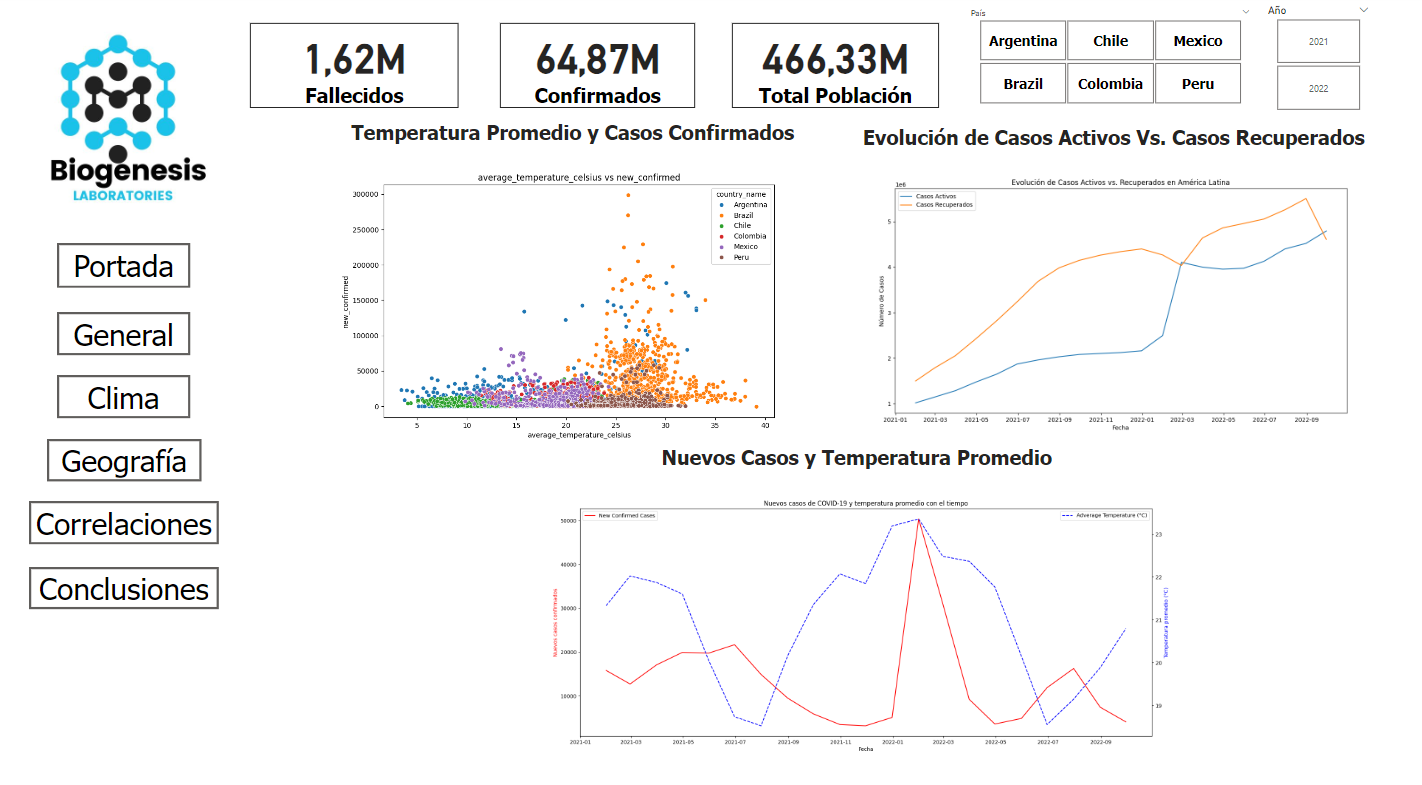

What the dashboard file says about the page in this screenshot:
{"tool":"powerbi","page":{"name":"Clima","canvas":[1920,1080],"ordinal":2},"visuals":[{"type":"card","fields":{"Values":["DatosFinalesFiltrado.Total Población"]},"box":[990,38,278,114],"z":0},{"type":"card","fields":{"Values":["DatosFinalesFiltrado.Fallecidos"]},"box":[342,38,280,114],"z":1000},{"type":"card","fields":{"Values":["DatosFinalesFiltrado.total_cum_conf"]},"box":[678,38,262,114],"z":2000},{"type":"pythonVisual","fields":{"Values":["DatosFinalesFiltrado.average_temperature_celsius"]},"box":[316.3,167.4,920.9,448.8],"z":3000},{"type":"pythonVisual","fields":{"Values":["data_latinoamerica_paises.new_confirmed"]},"box":[644.2,604.7,1025.6,439.5],"z":4000},{"type":"pythonVisual","fields":{"Values":["DatosFinalesFiltrado.cumulative_recovered"]},"box":[1083.7,174.4,837.2,434.9],"z":5000},{"type":"image","box":[17.8,13.3,308.9,333.3],"z":6000},{"type":"actionButton","box":[83.7,332.6,179.1,60.5],"z":7000},{"type":"actionButton","box":[83.7,425.6,179.1,58.1],"z":8000},{"type":"actionButton","box":[83.6,510.4,179.1,58.2],"z":9000},{"type":"actionButton","box":[69.6,596.2,207.6,57],"z":10000},{"type":"actionButton","box":[45,680,255,58.3],"z":11000},{"type":"slicer","fields":{"Values":["DatosFinalesFiltrado.date.Variation.Date Hierarchy.Year"]},"box":[1697.2,8.3,161.1,152.8],"z":12000},{"type":"slicer","fields":{"Values":["DatosFinalesFiltrado.country_name"]},"box":[1297.2,13.9,400,138.9],"z":13000},{"type":"actionButton","box":[45,768.3,255,56.7],"z":14000}]}

Visuals, with their boxes in screenshot pixels (x1, y1, x2, y2), scaled from the page's 1920x1080 canvas onto the 1422x785 screenshot:
card - DatosFinalesFiltrado.Total Población: <bbox>733, 28, 939, 110</bbox>
card - DatosFinalesFiltrado.Fallecidos: <bbox>253, 28, 461, 110</bbox>
card - DatosFinalesFiltrado.total_cum_conf: <bbox>502, 28, 696, 110</bbox>
pythonVisual - DatosFinalesFiltrado.average_temperature_celsius: <bbox>234, 122, 916, 448</bbox>
pythonVisual - data_latinoamerica_paises.new_confirmed: <bbox>477, 440, 1237, 759</bbox>
pythonVisual - DatosFinalesFiltrado.cumulative_recovered: <bbox>803, 127, 1421, 443</bbox>
image: <bbox>13, 10, 242, 252</bbox>
actionButton: <bbox>62, 242, 195, 286</bbox>
actionButton: <bbox>62, 309, 195, 352</bbox>
actionButton: <bbox>62, 371, 195, 413</bbox>
actionButton: <bbox>52, 433, 205, 475</bbox>
actionButton: <bbox>33, 494, 222, 537</bbox>
slicer - DatosFinalesFiltrado.date.Variation.Date Hierarchy.Year: <bbox>1257, 6, 1376, 117</bbox>
slicer - DatosFinalesFiltrado.country_name: <bbox>961, 10, 1257, 111</bbox>
actionButton: <bbox>33, 558, 222, 600</bbox>
